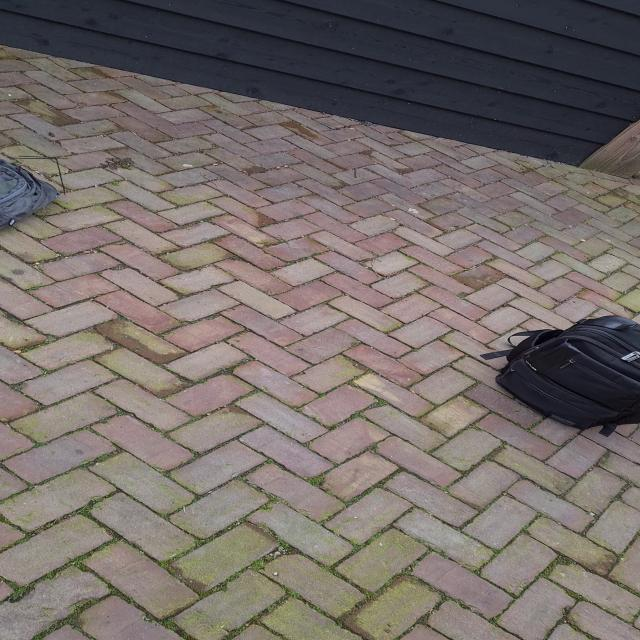backpack: (489, 312, 640, 432), (0, 152, 64, 226)
